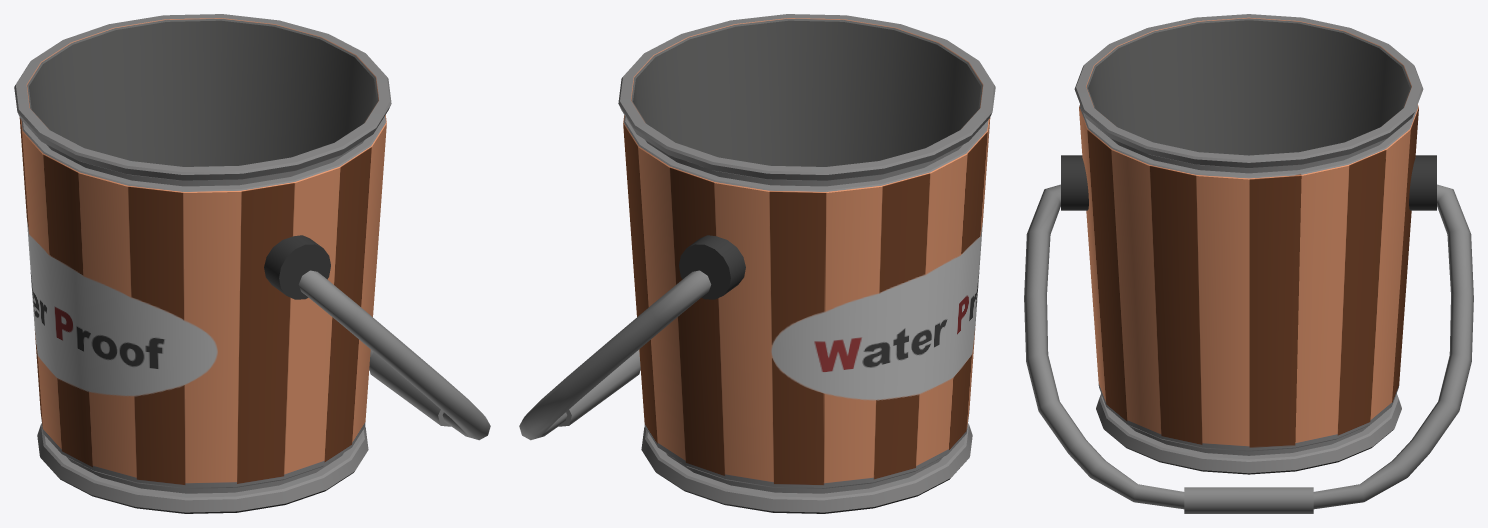
File: PaintCan.FBX
3 views of the same model, side by side, from view 1: azimuth 30°, elevation 25°; view 2: azimuth 150°, elevation 25°; view 3: azimuth 270°, elevation 25° (orthographic). The views are drawn at different scales.
Parts seen in each view (by area): view 1: PaintCan; view 2: PaintCan; view 3: PaintCan.
Part boxes in pixels (box(x1,y1,x2,y2)): PaintCan: box(14, 14, 490, 513); PaintCan: box(519, 14, 995, 513); PaintCan: box(1024, 14, 1473, 513).
Size of the model in its own units: 9.13 by 8 by 9.84.
Materials: 1 (1 with a texture image).
